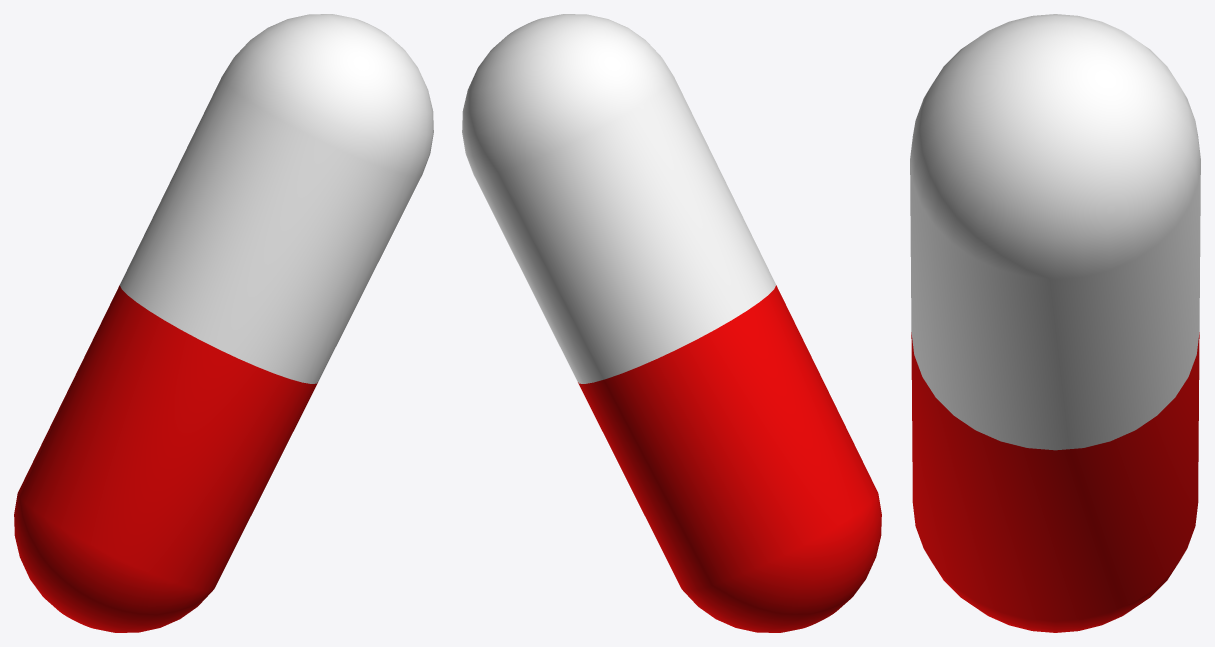
The model's file is Icon_medicine.FBX.
3 renders of one model, left to right at view 1: azimuth 30°, elevation 25°; view 2: azimuth 150°, elevation 25°; view 3: azimuth 270°, elevation 25°, orthographic. The views are drawn at different scales.
Parts seen in each view (by area): view 1: Sphere001, Sphere002; view 2: Sphere001, Sphere002; view 3: Sphere001, Sphere002.
Part boxes in pixels (x1,y1,x2,y2): Sphere001: (120,14,433,383); Sphere002: (14,285,317,632); Sphere001: (462,14,775,383); Sphere002: (578,285,881,632); Sphere001: (910,14,1200,450); Sphere002: (911,332,1199,632).
Size of the model in its own units: 201 by 272 by 100.
